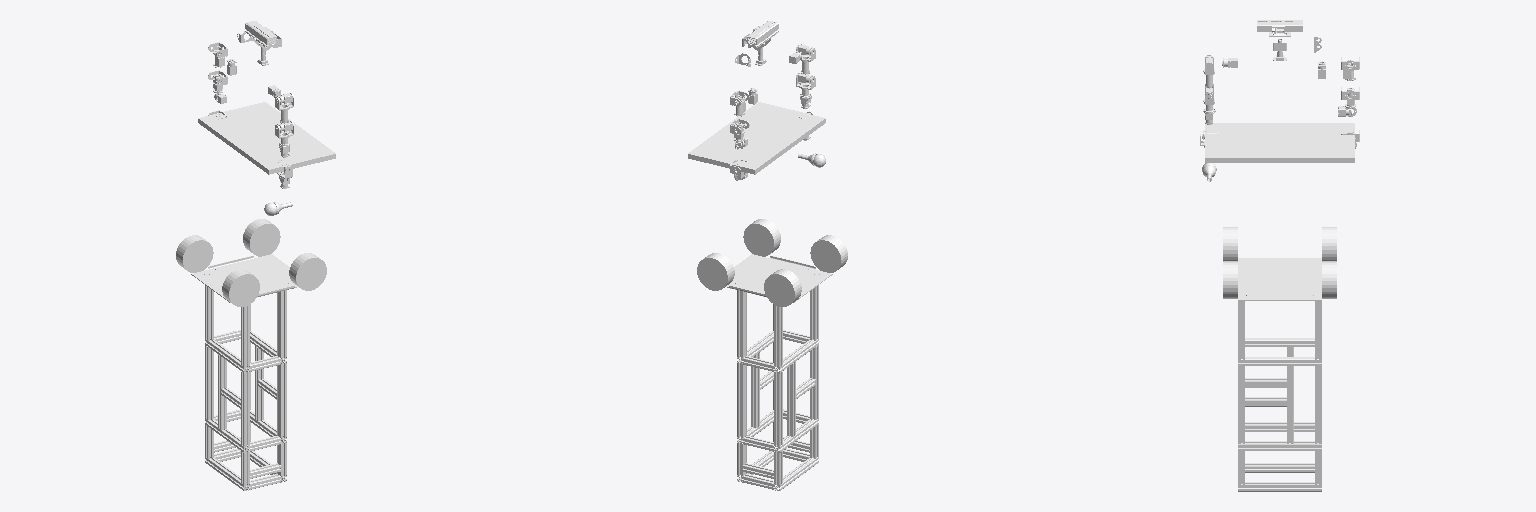
--- Render facts (derived) ---
Views: 3 orthographic renders of the robot side by side, from view 1: azimuth 30°, elevation 25°; view 2: azimuth 150°, elevation 25°; view 3: azimuth 270°, elevation 25°.
Model NKG_ROBOT with 53 links and 52 joints (12 revolute, 1 prismatic, 39 fixed), rooted at base_link, posed every joint at zero.
Links seen in each view (by area): view 1: base_link, link_table, link_wheel_r2, link_wheel_r1, link_wheel_l1, link_wheel_l2, link_head3; view 2: base_link, link_table, link_wheel_l2, link_wheel_l1, link_wheel_r1, link_wheel_r2, link_head3; view 3: base_link, link_table, link_head3, link_wheel_l1, link_wheel_r1.
Link boxes in pixels (x1,y1,x2,y2): base_link: [191, 254, 297, 490]; link_table: [198, 102, 335, 174]; link_wheel_r2: [222, 269, 259, 306]; link_wheel_r1: [289, 253, 326, 290]; link_wheel_l1: [243, 219, 280, 256]; link_wheel_l2: [176, 235, 213, 272]; link_head3: [245, 21, 281, 50]; base_link: [726, 254, 832, 490]; link_table: [688, 102, 825, 174]; link_wheel_l2: [764, 269, 801, 306]; link_wheel_l1: [697, 253, 734, 290]; link_wheel_r1: [743, 219, 780, 256]; link_wheel_r2: [810, 235, 847, 272]; link_head3: [742, 21, 778, 50]; base_link: [1238, 258, 1321, 491]; link_table: [1205, 123, 1354, 162]; link_head3: [1257, 20, 1302, 50]; link_wheel_l1: [1322, 261, 1336, 298]; link_wheel_r1: [1223, 261, 1237, 298].
Size in the robot's own frame: 0.6455 by 0.8561 by 2.75 metres.
Meshes: 15 distinct files referenced, 31 mesh visuals loaded (11 binary STL); not drawn: 16 (reference not matched to a file when rendering).

URDF robot description (NKG_ROBOT):
<?xml version="1.0" ?>
<!-- =================================================================================== -->
<!-- |    This document was autogenerated by xacro from gunbo_robot.urdf.xacro         | -->
<!-- |    EDITING THIS FILE BY HAND IS NOT RECOMMENDED                                 | -->
<!-- =================================================================================== -->
<robot name="NKG_ROBOT" xmlns:xacro="http://www.ros.org/wiki/xacro">
  <material name="gray">
    <color rgba="0.5 0.5 0.5 2.0"/>
  </material>
  <material name="white">
    <color rgba="1.0 1.0 1.0 1.5"/>
  </material>
  <material name="black">
    <color rgba="0.0 0.0 0.0 1.5"/>
  </material>
  <link name="base_link">
    <visual>
      <geometry>
        <mesh filename="package://nkg_robot_description/meshes/gunbo_body.stl" scale="0.001 0.001 0.001"/>
      </geometry>
      <material name="white"/>
    </visual>
    <collision>
      <origin rpy="3.1415926536 0 0" xyz="0 0 0.1365"/>
      <geometry>
        <mesh filename="package://nkg_robot_description/meshes/gunbo_body.stl" scale="0.001 0.001 0.001"/>
      </geometry>
    </collision>
  </link>
  <link name="link_table">
    <visual>
      <geometry>
        <box size="0.442 0.806 0.03"/>
      </geometry>
      <material name="white"/>
    </visual>
    <collision>
      <origin rpy="0 0 0" xyz="0.201 0.158 -0.015"/>
      <geometry>
        <box size="0.442 0.806 0.03"/>
      </geometry>
      <material name="white"/>
    </collision>
  </link>
  <joint name="joint_table" type="fixed">
    <parent link="base_link"/>
    <child link="link_table"/>
    <origin rpy="0 0 0" xyz="0.103 0 0.86"/>
  </joint>
  <link name="link_wheel_l1">
    <visual>
      <geometry>
        <cylinder length="0.078" radius="0.1015"/>
      </geometry>
      <material name="white"/>
    </visual>
    <collision>
      <origin rpy="0 0 0" xyz="0 0 0"/>
      <geometry>
        <cylinder length="0.078" radius="0.1015"/>
      </geometry>
    </collision>
  </link>
  <joint name="wheel_l1" type="fixed">
    <parent link="base_link"/>
    <child link="link_wheel_l1"/>
    <origin rpy="1.5707963268 0 0" xyz="0.22 0.264 0.1015"/>
  </joint>
  <link name="link_wheel_l2">
    <visual>
      <geometry>
        <cylinder length="0.078" radius="0.1015"/>
      </geometry>
      <material name="white"/>
    </visual>
    <collision>
      <origin rpy="0 0 0" xyz="0 0 0"/>
      <geometry>
        <cylinder length="0.078" radius="0.1015"/>
      </geometry>
    </collision>
  </link>
  <joint name="wheel_l2" type="fixed">
    <parent link="base_link"/>
    <child link="link_wheel_l2"/>
    <origin rpy="1.5707963268 0 0" xyz="-0.22 0.264 0.1015"/>
  </joint>
  <link name="link_wheel_r1">
    <visual>
      <geometry>
        <cylinder length="0.078" radius="0.1015"/>
      </geometry>
      <material name="white"/>
    </visual>
    <collision>
      <origin rpy="0 0 0" xyz="0 0 0"/>
      <geometry>
        <cylinder length="0.078" radius="0.1015"/>
      </geometry>
    </collision>
  </link>
  <joint name="wheel_r1" type="fixed">
    <parent link="base_link"/>
    <child link="link_wheel_r1"/>
    <origin rpy="-1.5707963268 0 0" xyz="0.22 -0.264 0.1015"/>
  </joint>
  <link name="link_wheel_r2">
    <visual>
      <geometry>
        <cylinder length="0.078" radius="0.1015"/>
      </geometry>
      <material name="white"/>
    </visual>
    <collision>
      <origin rpy="0 0 0" xyz="0 0 0"/>
      <geometry>
        <cylinder length="0.078" radius="0.1015"/>
      </geometry>
    </collision>
  </link>
  <joint name="wheel_r2" type="fixed">
    <parent link="base_link"/>
    <child link="link_wheel_r2"/>
    <origin rpy="-1.5707963268 0 0" xyz="-0.22 -0.264 0.1015"/>
  </joint>
  <link name="link_head1">
    <visual>
      <geometry>
        <mesh filename="package://nkg_robot_description/meshes/gunbo_head_1.stl" scale="0.001 0.001 0.001"/>
      </geometry>
      <material name="white"/>
    </visual>
    <collision>
      <origin rpy="0 0 0" xyz="0 0 0"/>
      <geometry>
        <mesh filename="package://nkg_robot_description/meshes/gunbo_head_1.stl" scale="0.001 0.001 0.001"/>
      </geometry>
    </collision>
  </link>
  <joint name="head_1" type="fixed">
    <parent link="base_link"/>
    <child link="link_head1"/>
    <origin rpy="0 0 0" xyz="0.077 0 1.3365"/>
  </joint>
  <link name="link_head2">
    <visual>
      <geometry>
        <mesh filename="package://nkg_robot_description/meshes/gunbo_head_2.stl" scale="0.001 0.001 0.001"/>
      </geometry>
      <material name="white"/>
    </visual>
    <collision>
      <origin rpy="1.5707963268 0 1.5707963268" xyz="0 0 -0.189"/>
      <geometry>
        <mesh filename="package://nkg_robot_description/meshes/gunbo_head_2.stl" scale="0.001 0.001 0.001"/>
      </geometry>
    </collision>
  </link>
  <joint name="head_2" type="fixed">
    <parent link="link_head1"/>
    <child link="link_head2"/>
    <origin rpy="0 0 0" xyz="0 0 0.0945"/>
  </joint>
  <link name="link_head3">
    <visual>
      <geometry>
        <mesh filename="package://nkg_robot_description/meshes/gunbo_head_3.stl" scale="0.001 0.001 0.001"/>
      </geometry>
      <material name="white"/>
    </visual>
    <collision>
      <origin rpy="0 0 3.1415926536" xyz="0 0 0"/>
      <geometry>
        <mesh filename="package://nkg_robot_description/meshes/gunbo_head_3.stl" scale="0.001 0.001 0.001"/>
      </geometry>
    </collision>
  </link>
  <joint name="head_3" type="fixed">
    <parent link="link_head2"/>
    <child link="link_head3"/>
    <origin rpy="0 0 0" xyz="0 0 0.017"/>
  </joint>
  <link name="M8_link">
    <visual>
      <geometry>
        <mesh filename="package://nkg_robot_description/meshes/h42_20.stl" scale="0.001 0.001 0.001"/>
      </geometry>
      <material name="white"/>
    </visual>
    <collision>
      <origin rpy="-1.5707963268 0 0" xyz="0 0.084 0"/>
      <geometry>
        <mesh filename="package://nkg_robot_description/meshes/h42_20.stl" scale="0.001 0.001 0.001"/>
      </geometry>
    </collision>
  </link>
  <joint name="arm_l_base_joint" type="fixed">
    <parent link="base_link"/>
    <child link="M8_link"/>
    <origin rpy="0 0 0" xyz="0 0.225 1.2825"/>
  </joint>
  <link name="arml_1_1_link">
    <visual>
      <geometry>
        <mesh filename="package://nkg_robot_description/meshes/nkg_robot_description_A.stl" scale="0.001 0.001 0.001"/>
      </geometry>
      <material name="white"/>
    </visual>
    <collision>
      <origin rpy="-1.5707963268 0 0" xyz="0 0.0325 0"/>
      <geometry>
        <mesh filename="package://nkg_robot_description/meshes/nkg_robot_description_A.stl" scale="0.001 0.001 0.001"/>
      </geometry>
    </collision>
  </link>
  <joint name="M8_joint" type="revolute">
    <parent link="M8_link"/>
    <child link="arml_1_1_link"/>
    <origin rpy="0 0 0" xyz="0 0.084 0"/>
    <limit effort="30" lower="-2.0943951024" upper="2.0943951024" velocity="10"/>
    <axis xyz="0 1 0"/>
  </joint>
  <link name="arml_1_2_link">
    <visual>
      <geometry>
        <mesh filename="package://nkg_robot_description/meshes/nkg_robot_description_B.stl" scale="0.001 0.001 0.001"/>
      </geometry>
      <material name="white"/>
    </visual>
    <collision>
      <origin rpy="1.5707963268 0 0" xyz="0 0 0"/>
      <geometry>
        <mesh filename="package://nkg_robot_description/meshes/nkg_robot_description_B.stl" scale="0.001 0.001 0.001"/>
      </geometry>
    </collision>
  </link>
  <joint name="arml_1_1_link_joint" type="fixed">
    <parent link="arml_1_1_link"/>
    <child link="arml_1_2_link"/>
    <origin rpy="0 0 0" xyz="0 0.0325 0"/>
  </joint>
  <link name="M9_link">
    <visual>
      <geometry>
        <mesh filename="package://nkg_robot_description/meshes/h42_20.stl" scale="0.001 0.001 0.001"/>
      </geometry>
      <material name="white"/>
    </visual>
    <collision>
      <origin rpy="0 -1.5707963268 0" xyz="-0.042 0.021 0"/>
      <geometry>
        <mesh filename="package://nkg_robot_description/meshes/h42_20.stl" scale="0.001 0.001 0.001"/>
      </geometry>
    </collision>
  </link>
  <joint name="arml_1_2_link_joint" type="fixed">
    <parent link="arml_1_2_link"/>
    <child link="M9_link"/>
    <origin rpy="0 0 0" xyz="0 0.015 0"/>
  </joint>
  <link name="arml_2_1_link">
    <visual>
      <geometry>
        <mesh filename="package://nkg_robot_description/meshes/ARM_1.stl" scale="0.001 0.001 0.001"/>
      </geometry>
      <material name="white"/>
    </visual>
    <collision>
      <origin rpy="0 1.5707963268 -1.5707963268" xyz="0 0 -0.0145"/>
      <geometry>
        <mesh filename="package://nkg_robot_description/meshes/ARM_1.stl" scale="0.001 0.001 0.001"/>
      </geometry>
    </collision>
  </link>
  <joint name="M9_joint" type="revolute">
    <parent link="M9_link"/>
    <child link="arml_2_1_link"/>
    <origin rpy="0 0 0" xyz="0 0.021 0"/>
    <limit effort="30" lower="-2.0943951024" upper="2.0943951024" velocity="10"/>
    <axis xyz="-1 0 0"/>
  </joint>
  <link name="arml_2_2_link">
    <visual>
      <geometry>
        <mesh filename="package://nkg_robot_description/meshes/ARM_2.stl" scale="0.001 0.001 0.001"/>
      </geometry>
      <material name="white"/>
    </visual>
    <collision>
      <origin rpy="0 0 0.5235987756" xyz="0 0 -0.043525"/>
      <geometry>
        <mesh filename="package://nkg_robot_description/meshes/ARM_2.stl" scale="0.001 0.001 0.001"/>
      </geometry>
    </collision>
  </link>
  <joint name="arml_2_1_joint" type="fixed">
    <parent link="arml_2_1_link"/>
    <child link="arml_2_2_link"/>
    <origin rpy="0 0 0" xyz="0 0 -0.053"/>
  </joint>
  <link name="arml_2_3_link">
    <visual>
      <geometry>
        <mesh filename="package://nkg_robot_description/meshes/nkg_robot_description_B.stl" scale="0.001 0.001 0.001"/>
      </geometry>
      <material name="white"/>
    </visual>
    <collision>
      <origin rpy="0 0 0" xyz="0 0 0"/>
      <geometry>
        <mesh filename="package://nkg_robot_description/meshes/nkg_robot_description_B.stl" scale="0.001 0.001 0.001"/>
      </geometry>
    </collision>
  </link>
  <joint name="arml_2_2_joint" type="fixed">
    <parent link="arml_2_2_link"/>
    <child link="arml_2_3_link"/>
    <origin rpy="0 0 0" xyz="0 0 -0.08705"/>
  </joint>
  <link name="M10_link">
    <visual>
      <geometry>
        <mesh filename="package://nkg_robot_description/meshes/h42_20.stl" scale="0.001 0.001 0.001"/>
      </geometry>
      <material name="white"/>
    </visual>
    <collision>
      <origin rpy="0 -1.5707963268 0" xyz="-0.042 0 -0.021"/>
      <geometry>
        <mesh filename="package://nkg_robot_description/meshes/h42_20.stl" scale="0.001 0.001 0.001"/>
      </geometry>
    </collision>
  </link>
  <joint name="arml_2_3_joint" type="fixed">
    <parent link="arml_2_3_link"/>
    <child link="M10_link"/>
    <origin rpy="0 0 0" xyz="0 0 -0.015"/>
  </joint>
  <link name="arml_3_1_link">
    <visual>
      <geometry>
        <mesh filename="package://nkg_robot_description/meshes/ARM_1.stl" scale="0.001 0.001 0.001"/>
      </geometry>
      <material name="white"/>
    </visual>
    <collision>
      <origin rpy="0 1.5707963268 -1.5707963268" xyz="0 0 -0.0145"/>
      <geometry>
        <mesh filename="package://nkg_robot_description/meshes/ARM_1.stl" scale="0.001 0.001 0.001"/>
      </geometry>
    </collision>
  </link>
  <joint name="M10_joint" type="revolute">
    <parent link="M10_link"/>
    <child link="arml_3_1_link"/>
    <origin rpy="0 0 0" xyz="0 0 -0.021"/>
    <limit effort="30" lower="-0.5235987756" upper="2.0943951024" velocity="10"/>
    <axis xyz="-1 0 0"/>
  </joint>
  <link name="arml_3_2_link">
    <visual>
      <geometry>
        <mesh filename="package://nkg_robot_description/meshes/ARM_4.stl" scale="0.001 0.001 0.001"/>
      </geometry>
      <material name="white"/>
    </visual>
    <collision>
      <origin rpy="-3.1415926536 0 0" xyz="0 0 -0.0265"/>
      <geometry>
        <mesh filename="package://nkg_robot_description/meshes/ARM_4.stl" scale="0.001 0.001 0.001"/>
      </geometry>
    </collision>
  </link>
  <joint name="arml_3_1_joint" type="fixed">
    <parent link="arml_3_1_link"/>
    <child link="arml_3_2_link"/>
    <origin rpy="0 0 0" xyz="0 0 -0.053"/>
  </joint>
  <link name="arml_3_3_link">
    <visual>
      <geometry>
        <mesh filename="package://nkg_robot_description/meshes/ARM_3.stl" scale="0.001 0.001 0.001"/>
      </geometry>
      <material name="white"/>
    </visual>
    <collision>
      <origin rpy="0 -1.5707963268 1.5707963268" xyz="0 0 -0.0115"/>
      <geometry>
        <mesh filename="package://nkg_robot_description/meshes/ARM_3.stl" scale="0.001 0.001 0.001"/>
      </geometry>
    </collision>
  </link>
  <joint name="arml_3_2_joint" type="fixed">
    <parent link="arml_3_2_link"/>
    <child link="arml_3_3_link"/>
    <origin rpy="0 0 0" xyz="0 0 -0.053"/>
  </joint>
  <link name="M11_link">
    <visual>
      <geometry>
        <mesh filename="package://nkg_robot_description/meshes/m42_10.stl" scale="0.001 0.001 0.001"/>
      </geometry>
      <material name="white"/>
    </visual>
    <collision>
      <origin rpy="-1.5707963268 0 0" xyz="0 0 -0.066"/>
      <geometry>
        <mesh filename="package://nkg_robot_description/meshes/m42_10.stl" scale="0.001 0.001 0.001"/>
      </geometry>
    </collision>
  </link>
  <joint name="arml_3_3_joint" type="fixed">
    <parent link="arml_3_3_link"/>
    <child link="M11_link"/>
    <origin rpy="0 0 0" xyz="0 0 -0.005"/>
  </joint>
  <link name="arml_4_1_link">
    <visual>
      <geometry>
        <mesh filename="package://nkg_robot_description/meshes/nkg_robot_description_A.stl" scale="0.001 0.001 0.001"/>
      </geometry>
      <material name="white"/>
    </visual>
    <collision>
      <origin rpy="3.1415926536 0 0.5235987756" xyz="0 0 -0.0325"/>
      <geometry>
        <mesh filename="package://nkg_robot_description/meshes/nkg_robot_description_A.stl" scale="0.001 0.001 0.001"/>
      </geometry>
    </collision>
  </link>
  <joint name="M11_joint" type="revolute">
    <parent link="M11_link"/>
    <child link="arml_4_1_link"/>
    <origin rpy="0 0 0" xyz="0 0 -0.072"/>
    <limit effort="30" lower="-3.76991118432" upper="3.76991118432" velocity="10"/>
    <axis xyz="0 0 -1"/>
  </joint>
  <link name="arml_4_2_link">
    <visual>
      <geometry>
        <mesh filename="package://nkg_robot_description/meshes/nkg_robot_description_B.stl" scale="0.001 0.001 0.001"/>
      </geometry>
      <material name="white"/>
    </visual>
    <collision>
      <origin rpy="0 0 1.5707963268" xyz="0 0 0"/>
      <geometry>
        <mesh filename="package://nkg_robot_description/meshes/nkg_robot_description_B.stl" scale="0.001 0.001 0.001"/>
      </geometry>
    </collision>
  </link>
  <joint name="arml_4_1_joint" type="fixed">
    <parent link="arml_4_1_link"/>
    <child link="arml_4_2_link"/>
    <origin rpy="0 0 0" xyz="0 0 -0.0325"/>
  </joint>
  <link name="M12_link">
    <visual>
      <geometry>
        <mesh filename="package://nkg_robot_description/meshes/h42_20.stl" scale="0.001 0.001 0.001"/>
      </geometry>
      <material name="white"/>
    </visual>
    <collision>
      <origin rpy="0 -1.5707963268 -1.5707963268" xyz="0 0.042 -0.021"/>
      <geometry>
        <mesh filename="package://nkg_robot_description/meshes/h42_20.stl" scale="0.001 0.001 0.001"/>
      </geometry>
    </collision>
  </link>
  <joint name="arml_4_2_joint" type="fixed">
    <parent link="arml_4_2_link"/>
    <child link="M12_link"/>
    <origin rpy="0 0 0" xyz="0 0 -0.015"/>
  </joint>
  <link name="arml_5_1_link">
    <visual>
      <geometry>
        <mesh filename="package://nkg_robot_description/meshes/ARM_1.stl" scale="0.001 0.001 0.001"/>
      </geometry>
      <material name="white"/>
    </visual>
    <collision>
      <origin rpy="0 1.5707963268 0" xyz="0 0 -0.0145"/>
      <geometry>
        <mesh filename="package://nkg_robot_description/meshes/ARM_1.stl" scale="0.001 0.001 0.001"/>
      </geometry>
    </collision>
  </link>
  <joint name="M12_joint" type="revolute">
    <parent link="M12_link"/>
    <child link="arml_5_1_link"/>
    <origin rpy="0 0 0" xyz="0 0 -0.021"/>
    <limit effort="30" lower="-2.617993878" upper="0.5235987756" velocity="10"/>
    <axis xyz="0 1 0"/>
  </joint>
  <link name="arml_5_2_link">
    <visual>
      <geometry>
        <mesh filename="package://nkg_robot_description/meshes/ARM_3.stl" scale="0.001 0.001 0.001"/>
      </geometry>
      <material name="white"/>
    </visual>
    <collision>
      <origin rpy="0 -1.5707963268 0" xyz="0 0 -0.0115"/>
      <geometry>
        <mesh filename="package://nkg_robot_description/meshes/ARM_3.stl" scale="0.001 0.001 0.001"/>
      </geometry>
    </collision>
  </link>
  <joint name="arml_5_1_joint" type="fixed">
    <parent link="arml_5_1_link"/>
    <child link="arml_5_2_link"/>
    <origin rpy="0 0 0" xyz="0 0 -0.053"/>
  </joint>
  <link name="M13_link">
    <visual>
      <geometry>
        <mesh filename="package://nkg_robot_description/meshes/m42_10.stl" scale="0.001 0.001 0.001"/>
      </geometry>
      <material name="white"/>
    </visual>
    <collision>
      <origin rpy="-1.5707963268 0 0" xyz="0 0 -0.066"/>
      <geometry>
        <mesh filename="package://nkg_robot_description/meshes/m42_10.stl" scale="0.001 0.001 0.001"/>
      </geometry>
    </collision>
  </link>
  <joint name="arml_5_2_joint" type="fixed">
    <parent link="arml_5_2_link"/>
    <child link="M13_link"/>
    <origin rpy="0 0 0" xyz="0 0 -0.005"/>
  </joint>
  <link name="grip_l_box_link">
    <visual>
      <geometry>
        <mesh filename="package://nkg_robot_description/meshes/nkg_robot_description_BOX.stl" scale="0.001 0.001 0.001"/>
      </geometry>
      <material name="white"/>
    </visual>
    <collision>
      <origin rpy="0 0 1.5707963268" xyz="0 0 0"/>
      <geometry>
        <mesh filename="package://nkg_robot_description/meshes/nkg_robot_description_BOX.stl" scale="0.001 0.001 0.001"/>
      </geometry>
    </collision>
  </link>
  <joint name="M13_joint" type="revolute">
    <parent link="M13_link"/>
    <child link="grip_l_box_link"/>
    <origin rpy="0 0 0" xyz="0 0 -0.072"/>
    <limit effort="30" lower="-1.5707963268" upper="1.5707963268" velocity="10"/>
    <axis xyz="0 0 -1"/>
  </joint>
  <link name="grip_l_l_link">
    <visual>
      <geometry>
        <mesh filename="package://nkg_robot_description/meshes/nkg_robot_description_GRIPPER.stl" scale="0.001 0.001 0.001"/>
      </geometry>
      <material name="white"/>
    </visual>
    <collision>
      <origin rpy="1.5707963268 0 1.5707963268" xyz="0 -0.013 -0.005"/>
      <geometry>
        <mesh filename="package://nkg_robot_description/meshes/nkg_robot_description_GRIPPER.stl" scale="0.001 0.001 0.001"/>
      </geometry>
    </collision>
  </link>
  <!-- <joint name="grip_l_l_joint" type="prismatic"> -->
  <joint name="M14_joint" type="prismatic">
    <parent link="grip_l_box_link"/>
    <child link="grip_l_l_link"/>
    <origin rpy="0 0 0" xyz="0 0 -0.125"/>
    <axis xyz="0 1 0"/>
    <limit effort="300.0" lower="-0.0220" upper="0.013" velocity="1.0"/>
  </joint>
  <link name="grip_l_r_link">
    <visual>
      <geometry>
        <mesh filename="package://nkg_robot_description/meshes/nkg_robot_description_GRIPPER.stl" scale="0.001 0.001 0.001"/>
      </geometry>
      <material name="white"/>
    </visual>
    <collision>
      <origin rpy="1.5707963268 0 -1.5707963268" xyz="0 0.01 -0.005"/>
      <geometry>
        <mesh filename="package://nkg_robot_description/meshes/nkg_robot_description_GRIPPER.stl" scale="0.001 0.001 0.001"/>
      </geometry>
    </collision>
  </link>
  <joint name="grip_l_r_joint" type="fixed">
    <parent link="grip_l_box_link"/>
    <child link="grip_l_r_link"/>
    <origin rpy="0 0 0" xyz="0 0 -0.125"/>
  </joint>
  <!--         <xacro:macro_link name="grip_l_funnel_link" mesh="funnel.stl" xyz="0.04625 0 0" rpy="0 -${PI/2} 0"/> -->
  <!--         <xacro:joint_fixed name="grip_l_funnel_joint" link0="grip_l_r_link" link1="grip_l_funnel_link" xyz="0 0 -0.062" rpy="0 0 0"/> -->
  <!--         <link name="grip_l_ball"> -->
  <!--             <visual> -->
  <!--                 <origin xyz="0 0 0" rpy="0 0 0"/> -->
  <!--                 <geometry> -->
  <!--                     <sphere radius="0.047"/> -->
  <!--                 </geometry> -->
  <!--                 <material name="white"/> -->
  <!--             </visual> -->
  <!--             <collision> -->
  <!--                 <origin xyz="0 0 0" rpy="0 0 0"/> -->
  <!--                 <geometry> -->
  <!--                     <sphere radius="0.047"/> -->
  <!--                 </geometry> -->
  <!--             </collision> -->
  <!--         </link> -->
  <!--         <joint name="grip_l_ball_joint" type="fixed"> -->
  <!--             <parent link="grip_l_funnel_link"/> -->
  <!--             <child link="grip_l_ball"/> -->
  <!--             <origin xyz="-0.102 0 0" rpy="0 0 0"/> -->
  <!--         </joint> -->
  <!-- ============== gripper end ============== -->
  <link name="M1_link">
    <visual>
      <origin rpy="1.5707963268 0 0" xyz="0 -0.084 0"/>
      <geometry>
        <mesh filename="package://nkg_robot_description/meshes/h42_20.stl" scale="0.001 0.001 0.001"/>
      </geometry>
      <material name="white"/>
    </visual>
    <collision>
      <origin rpy="1.5707963268 0 0" xyz="0 -0.084 0"/>
      <geometry>
        <mesh filename="package://nkg_robot_description/meshes/h42_20.stl" scale="0.001 0.001 0.001"/>
      </geometry>
    </collision>
  </link>
  <joint name="arm_r_base_joint" type="fixed">
    <parent link="base_link"/>
    <child link="M1_link"/>
    <origin rpy="0 0 0" xyz="0 -0.225 1.2825"/>
  </joint>
  <link name="armr_1_1_link">
    <visual>
      <origin rpy="1.5707963268 0 0" xyz="0 -0.0325 0"/>
      <geometry>
        <mesh filename="package://nkg_robot_description/meshes/nkg_robot_description_A.stl" scale="0.001 0.001 0.001"/>
      </geometry>
      <material name="white"/>
    </visual>
    <collision>
      <origin rpy="1.5707963268 0 0" xyz="0 -0.0325 0"/>
      <geometry>
        <mesh filename="package://nkg_robot_description/meshes/nkg_robot_description_A.stl" scale="0.001 0.001 0.001"/>
      </geometry>
    </collision>
  </link>
  <joint name="M1_joint" type="revolute">
    <parent link="M1_link"/>
    <child link="armr_1_1_link"/>
    <origin rpy="0 0 0" xyz="0 -0.084 0"/>
    <limit effort="30" lower="-1.5707963268" upper="1.5707963268" velocity="10"/>
    <axis xyz="0 -1 0"/>
  </joint>
  <link name="armr_1_2_link">
    <visual>
      <origin rpy="-1.5707963268 0 0" xyz="0 0 0"/>
      <geometry>
        <mesh filename="package://nkg_robot_description/meshes/nkg_robot_description_B.stl" scale="0.001 0.001 0.001"/>
      </geometry>
      <material name="white"/>
    </visual>
    <collision>
      <origin rpy="-1.5707963268 0 0" xyz="0 0 0"/>
      <geometry>
        <mesh filename="package://nkg_robot_description/meshes/nkg_robot_description_B.stl" scale="0.001 0.001 0.001"/>
      </geometry>
    </collision>
  </link>
  <joint name="armr_1_1_link_joint" type="fixed">
    <parent link="armr_1_1_link"/>
    <child link="armr_1_2_link"/>
    <origin rpy="0 0 0" xyz="0 -0.0325 0"/>
  </joint>
  <link name="M2_link">
    <visual>
      <origin rpy="0 -1.5707963268 0" xyz="-0.042 -0.021 0"/>
      <geometry>
        <mesh filename="package://nkg_robot_description/meshes/h42_20.stl" scale="0.001 0.001 0.001"/>
      </geometry>
      <material name="white"/>
    </visual>
    <collision>
      <origin rpy="0 -1.5707963268 0" xyz="-0.042 -0.021 0"/>
      <geometry>
        <mesh filename="package://nkg_robot_description/meshes/h42_20.stl" scale="0.001 0.001 0.001"/>
      </geometry>
    </collision>
  </link>
  <joint name="armr_1_2_link_joint" type="fixed">
    <parent link="armr_1_2_link"/>
    <child link="M2_link"/>
    <origin rpy="0 0 0" xyz="0 -0.015 0"/>
  </joint>
  <link name="armr_2_1_link">
    <visual>
      <origin rpy="0 1.5707963268 -1.5707963268" xyz="0 0 -0.0145"/>
      <geometry>
        <mesh filename="package://nkg_robot_description/meshes/ARM_1.stl" scale="0.001 0.001 0.001"/>
      </geometry>
      <material name="white"/>
    </visual>
    <collision>
      <origin rpy="0 1.5707963268 -1.5707963268" xyz="0 0 -0.0145"/>
      <geometry>
        <mesh filename="package://nkg_robot_description/meshes/ARM_1.stl" scale="0.001 0.001 0.001"/>
      </geometry>
    </collision>
  </link>
  <joint name="M2_joint" type="revolute">
    <parent link="M2_link"/>
    <child link="armr_2_1_link"/>
    <origin rpy="0 0 0" xyz="0 -0.021 0"/>
    <limit effort="30" lower="-1.5707963268" upper="1.5707963268" velocity="10"/>
    <axis xyz="-1 0 0"/>
  </joint>
  <link name="armr_2_2_link">
    <visual>
      <origin rpy="0 0 0.5235987756" xyz="0 0 -0.043525"/>
      <geometry>
        <mesh filename="package://nkg_robot_description/meshes/ARM_2.stl" scale="0.001 0.001 0.001"/>
      </geometry>
      <material name="white"/>
    </visual>
    <collision>
      <origin rpy="0 0 0.5235987756" xyz="0 0 -0.043525"/>
      <geometry>
        <mesh filename="package://nkg_robot_description/meshes/ARM_2.stl" scale="0.001 0.001 0.001"/>
      </geometry>
    </collision>
  </link>
  <joint name="armr_2_1_joint" type="fixed">
    <parent link="armr_2_1_link"/>
    <child link="armr_2_2_link"/>
    <origin rpy="0 0 0" xyz="0 0 -0.053"/>
  </joint>
  <link name="armr_2_3_link">
    <visual>
      <origin rpy="0 0 0" xyz="0 0 0"/>
      <geometry>
        <mesh filename="package://nkg_robot_description/meshes/nkg_robot_description_B.stl" scale="0.001 0.001 0.001"/>
      </geometry>
      <material name="white"/>
    </visual>
    <collision>
      <origin rpy="0 0 0" xyz="0 0 0"/>
      <geometry>
        <mesh filename="package://nkg_robot_description/meshes/nkg_robot_description_B.stl" scale="0.001 0.001 0.001"/>
      </geometry>
    </collision>
  </link>
  <joint name="armr_2_2_joint" type="fixed">
    <parent link="armr_2_2_link"/>
    <child link="armr_2_3_link"/>
    <origin rpy="0 0 0" xyz="0 0 -0.08705"/>
  </joint>
  <link name="M3_link">
    <visual>
      <origin rpy="0 -1.5707963268 0" xyz="-0.042 0 -0.021"/>
      <geometry>
        <mesh filename="package://nkg_robot_description/meshes/h42_20.stl" scale="0.001 0.001 0.001"/>
      </geometry>
      <material name="white"/>
    </visual>
    <collision>
      <origin rpy="0 -1.5707963268 0" xyz="-0.042 0 -0.021"/>
      <geometry>
        <mesh filename="package://nkg_robot_description/meshes/h42_20.stl" scale="0.001 0.001 0.001"/>
      </geometry>
    </collision>
  </link>
  <joint name="armr_2_3_joint" type="fixed">
    <parent link="armr_2_3_link"/>
    <child link="M3_link"/>
    <origin rpy="0 0 0" xyz="0 0 -0.015"/>
  </joint>
  <link name="armr_3_1_link">
    <visual>
      <origin rpy="0 1.5707963268 -1.5707963268" xyz="0 0 -0.0145"/>
      <geometry>
        <mesh filename="package://nkg_robot_description/meshes/ARM_1.stl" scale="0.001 0.001 0.001"/>
      </geometry>
      <material name="white"/>
    </visual>
    <collision>
      <origin rpy="0 1.5707963268 -1.5707963268" xyz="0 0 -0.0145"/>
      <geometry>
        <mesh filename="package://nkg_robot_description/meshes/ARM_1.stl" scale="0.001 0.001 0.001"/>
      </geometry>
    </collision>
  </link>
  <joint name="M3_joint" type="revolute">
    <parent link="M3_link"/>
    <child link="armr_3_1_link"/>
    <origin rpy="0 0 0" xyz="0 0 -0.021"/>
    <limit effort="30" lower="-2.617993878" upper="0.5235987756" velocity="10"/>
    <axis xyz="-1 0 0"/>
  </joint>
  <link name="armr_3_2_link">
    <visual>
      <origin rpy="-3.1415926536 0 0" xyz="0 0 -0.0265"/>
      <geometry>
        <mesh filename="package://nkg_robot_description/meshes/ARM_4.stl" scale="0.001 0.001 0.001"/>
      </geometry>
      <material name="white"/>
    </visual>
    <collision>
      <origin rpy="-3.1415926536 0 0" xyz="0 0 -0.0265"/>
      <geometry>
        <mesh filename="package://nkg_robot_description/meshes/ARM_4.stl" scale="0.001 0.001 0.001"/>
      </geometry>
    </collision>
  </link>
  <joint name="armr_3_1_joint" type="fixed">
    <parent link="armr_3_1_link"/>
    <child link="armr_3_2_link"/>
    <origin rpy="0 0 0" xyz="0 0 -0.053"/>
  </joint>
  <link name="armr_3_3_link">
    <visual>
      <origin rpy="0 -1.5707963268 1.5707963268" xyz="0 0 -0.0115"/>
      <geometry>
        <mesh filename="package://nkg_robot_description/meshes/ARM_3.stl" scale="0.001 0.001 0.001"/>
      </geometry>
      <material name="white"/>
    </visual>
    <collision>
      <origin rpy="0 -1.5707963268 1.5707963268" xyz="0 0 -0.0115"/>
      <geometry>
        <mesh filename="package://nkg_robot_description/meshes/ARM_3.stl" scale="0.001 0.001 0.001"/>
      </geometry>
    </collision>
  </link>
  <joint name="armr_3_2_joint" type="fixed">
    <parent link="armr_3_2_link"/>
    <child link="armr_3_3_link"/>
    <origin rpy="0 0 0" xyz="0 0 -0.053"/>
  </joint>
  <link name="M4_link">
    <visual>
      <origin rpy="-1.5707963268 0 0" xyz="0 0 -0.066"/>
      <geometry>
        <mesh filename="package://nkg_robot_description/meshes/m42_10.stl" scale="0.001 0.001 0.001"/>
      </geometry>
      <material name="white"/>
    </visual>
    <collision>
      <origin rpy="-1.5707963268 0 0" xyz="0 0 -0.066"/>
      <geometry>
        <mesh filename="package://nkg_robot_description/meshes/m42_10.stl" scale="0.001 0.001 0.001"/>
      </geometry>
    </collision>
  </link>
  <joint name="armr_3_3_joint" type="fixed">
    <parent link="armr_3_3_link"/>
    <child link="M4_link"/>
    <origin rpy="0 0 0" xyz="0 0 -0.005"/>
  </joint>
  <link name="armr_4_1_link">
    <visual>
      <origin rpy="3.1415926536 0 0.5235987756" xyz="0 0 -0.0325"/>
      <geometry>
        <mesh filename="package://nkg_robot_description/meshes/nkg_robot_description_A.stl" scale="0.001 0.001 0.001"/>
      </geometry>
      <material name="white"/>
    </visual>
    <collision>
      <origin rpy="3.1415926536 0 0.5235987756" xyz="0 0 -0.0325"/>
      <geometry>
        <mesh filename="package://nkg_robot_description/meshes/nkg_robot_description_A.stl" scale="0.001 0.001 0.001"/>
      </geometry>
    </collision>
  </link>
  <joint name="M4_joint" type="revolute">
    <parent link="M4_link"/>
    <child link="armr_4_1_link"/>
    <origin rpy="0 0 0" xyz="0 0 -0.072"/>
    <limit effort="30" lower="-3.76991118432" upper="3.76991118432" velocity="10"/>
    <axis xyz="0 0 -1"/>
  </joint>
  <link name="armr_4_2_link">
    <visual>
      <origin rpy="0 0 0" xyz="0 0 0"/>
      <geometry>
        <mesh filename="package://nkg_robot_description/meshes/nkg_robot_description_B.stl" scale="0.001 0.001 0.001"/>
      </geometry>
      <material name="white"/>
    </visual>
    <collision>
      <origin rpy="0 0 0" xyz="0 0 0"/>
      <geometry>
        <mesh filename="package://nkg_robot_description/meshes/nkg_robot_description_B.stl" scale="0.001 0.001 0.001"/>
      </geometry>
    </collision>
  </link>
  <joint name="armr_4_1_joint" type="fixed">
    <parent link="armr_4_1_link"/>
    <child link="armr_4_2_link"/>
    <origin rpy="0 0 0" xyz="0 0 -0.0325"/>
  </joint>
  <link name="M5_link">
    <visual>
      <origin rpy="0 -1.5707963268 1.5707963268" xyz="0 -0.042 -0.021"/>
      <geometry>
        <mesh filename="package://nkg_robot_description/meshes/h42_20.stl" scale="0.001 0.001 0.001"/>
      </geometry>
      <material name="white"/>
    </visual>
    <collision>
      <origin rpy="0 -1.5707963268 1.5707963268" xyz="0 -0.042 -0.021"/>
      <geometry>
        <mesh filename="package://nkg_robot_description/meshes/h42_20.stl" scale="0.001 0.001 0.001"/>
      </geometry>
    </collision>
  </link>
  <joint name="armr_4_2_joint" type="fixed">
    <parent link="armr_4_2_link"/>
    <child link="M5_link"/>
    <origin rpy="0 0 0" xyz="0 0 -0.015"/>
  </joint>
  <link name="armr_5_1_link">
    <visual>
      <origin rpy="0 1.5707963268 3.1415926536" xyz="0 0 -0.0145"/>
      <geometry>
        <mesh filename="package://nkg_robot_description/meshes/ARM_1.stl" scale="0.001 0.001 0.001"/>
      </geometry>
      <material name="white"/>
    </visual>
    <collision>
      <origin rpy="0 1.5707963268 3.1415926536" xyz="0 0 -0.0145"/>
      <geometry>
        <mesh filename="package://nkg_robot_description/meshes/ARM_1.stl" scale="0.001 0.001 0.001"/>
      </geometry>
    </collision>
  </link>
  <joint name="M5_joint" type="revolute">
    <parent link="M5_link"/>
    <child link="armr_5_1_link"/>
    <origin rpy="0 0 0" xyz="0 0 -0.021"/>
    <limit effort="30" lower="-0.5235987756" upper="2.617993878" velocity="10"/>
    <axis xyz="0 -1 0"/>
  </joint>
  <link name="armr_5_2_link">
    <visual>
      <origin rpy="0 -1.5707963268 0" xyz="0 0 -0.0115"/>
      <geometry>
        <mesh filename="package://nkg_robot_description/meshes/ARM_3.stl" scale="0.001 0.001 0.001"/>
      </geometry>
      <material name="white"/>
    </visual>
    <collision>
      <origin rpy="0 -1.5707963268 0" xyz="0 0 -0.0115"/>
      <geometry>
        <mesh filename="package://nkg_robot_description/meshes/ARM_3.stl" scale="0.001 0.001 0.001"/>
      </geometry>
    </collision>
  </link>
  <joint name="armr_5_1_joint" type="fixed">
    <parent link="armr_5_1_link"/>
    <child link="armr_5_2_link"/>
    <origin rpy="0 0 0" xyz="0 0 -0.053"/>
  </joint>
  <link name="M6_link">
    <visual>
      <origin rpy="-1.5707963268 0 0" xyz="0 0 -0.066"/>
      <geometry>
        <mesh filename="package://nkg_robot_description/meshes/m42_10.stl" scale="0.001 0.001 0.001"/>
      </geometry>
      <material name="white"/>
    </visual>
    <collision>
      <origin rpy="-1.5707963268 0 0" xyz="0 0 -0.066"/>
      <geometry>
        <mesh filename="package://nkg_robot_description/meshes/m42_10.stl" scale="0.001 0.001 0.001"/>
      </geometry>
    </collision>
  </link>
  <joint name="armr_5_2_joint" type="fixed">
    <parent link="armr_5_2_link"/>
    <child link="M6_link"/>
    <origin rpy="0 0 0" xyz="0 0 -0.005"/>
  </joint>
  <link name="grip_r_box_link">
    <visual>
      <origin rpy="0 0 -1.5707963268" xyz="0 0 0"/>
      <geometry>
        <mesh filename="package://nkg_robot_description/meshes/nkg_robot_description_BOX.stl" scale="0.001 0.001 0.001"/>
      </geometry>
      <material name="white"/>
    </visual>
    <collision>
      <origin rpy="0 0 -1.5707963268" xyz="0 0 0"/>
      <geometry>
        <mesh filename="package://nkg_robot_description/meshes/nkg_robot_description_BOX.stl" scale="0.001 0.001 0.001"/>
      </geometry>
    </collision>
  </link>
  <joint name="M6_joint" type="revolute">
    <parent link="M6_link"/>
    <child link="grip_r_box_link"/>
    <origin rpy="0 0 0" xyz="0 0 -0.072"/>
    <limit effort="30" lower="-1.5707963268" upper="1.5707963268" velocity="10"/>
    <axis xyz="0 0 -1"/>
  </joint>
  <link name="grip_r_l_link">
    <visual>
      <origin rpy="1.5707963268 0 1.5707963268" xyz="0 -0.01 -0.08"/>
      <geometry>
        <mesh filename="package://nkg_robot_description/meshes/nkg_robot_description_GRIPPER.stl" scale="0.001 0.001 0.001"/>
      </geometry>
      <material name="white"/>
    </visual>
    <collision>
      <origin rpy="1.5707963268 0 1.5707963268" xyz="0 -0.01 -0.08"/>
      <geometry>
        <mesh filename="package://nkg_robot_description/meshes/nkg_robot_description_GRIPPER.stl" scale="0.001 0.001 0.001"/>
      </geometry>
    </collision>
  </link>
  <joint name="grip_r_l_joint" type="fixed">
    <parent link="grip_r_box_link"/>
    <child link="grip_r_l_link"/>
    <origin rpy="0 0 0" xyz="0 0 -0.0515"/>
    <!-- <axis xyz="0 1 0"/> -->
    <!-- <limit effort="300.0" lower="-0.03" upper="0" velocity="1.0"/> -->
  </joint>
  <link name="grip_r_r_link">
    <visual>
      <origin rpy="1.5707963268 0 -1.5707963268" xyz="0 0.01 -0.08"/>
      <geometry>
        <mesh filename="package://nkg_robot_description/meshes/nkg_robot_description_GRIPPER.stl" scale="0.001 0.001 0.001"/>
      </geometry>
      <material name="white"/>
    </visual>
    <collision>
      <origin rpy="1.5707963268 0 -1.5707963268" xyz="0 0.01 -0.08"/>
      <geometry>
        <mesh filename="package://nkg_robot_description/meshes/nkg_robot_description_GRIPPER.stl" scale="0.001 0.001 0.001"/>
      </geometry>
    </collision>
  </link>
  <joint name="grip_r_r_joint" type="fixed">
    <parent link="grip_r_box_link"/>
    <child link="grip_r_r_link"/>
    <origin rpy="0 0 0" xyz="0 0 -0.0515"/>
  </joint>
  <link name="grip_r_funnel_link">
    <visual>
      <origin rpy="0 -1.5707963268 0" xyz="0.04625 0 0"/>
      <geometry>
        <mesh filename="package://nkg_robot_description/meshes/funnel.stl" scale="0.001 0.001 0.001"/>
      </geometry>
      <material name="white"/>
    </visual>
    <collision>
      <origin rpy="0 -1.5707963268 0" xyz="0.04625 0 0"/>
      <geometry>
        <mesh filename="package://nkg_robot_description/meshes/funnel.stl" scale="0.001 0.001 0.001"/>
      </geometry>
    </collision>
  </link>
  <joint name="grip_r_funnel_joint" type="fixed">
    <parent link="grip_r_r_link"/>
    <child link="grip_r_funnel_link"/>
    <origin rpy="0 0 0" xyz="0 0 -0.062"/>
  </joint>
  <link name="grip_r_ball">
    <visual>
      <origin rpy="0 0 0" xyz="0 0 0"/>
      <geometry>
        <sphere radius="0.039"/>
      </geometry>
      <material name="white"/>
    </visual>
    <collision>
      <origin rpy="0 0 0" xyz="0.039 0 0"/>
      <geometry>
        <sphere radius="0.025"/>
      </geometry>
    </collision>
  </link>
  <joint name="grip_r_ball_joint" type="fixed">
    <parent link="grip_r_funnel_link"/>
    <child link="grip_r_ball"/>
    <origin rpy="0 0 0" xyz="-0.089 0 0"/>
  </joint>
  <!-- ============== gripper end ============== -->
</robot>
